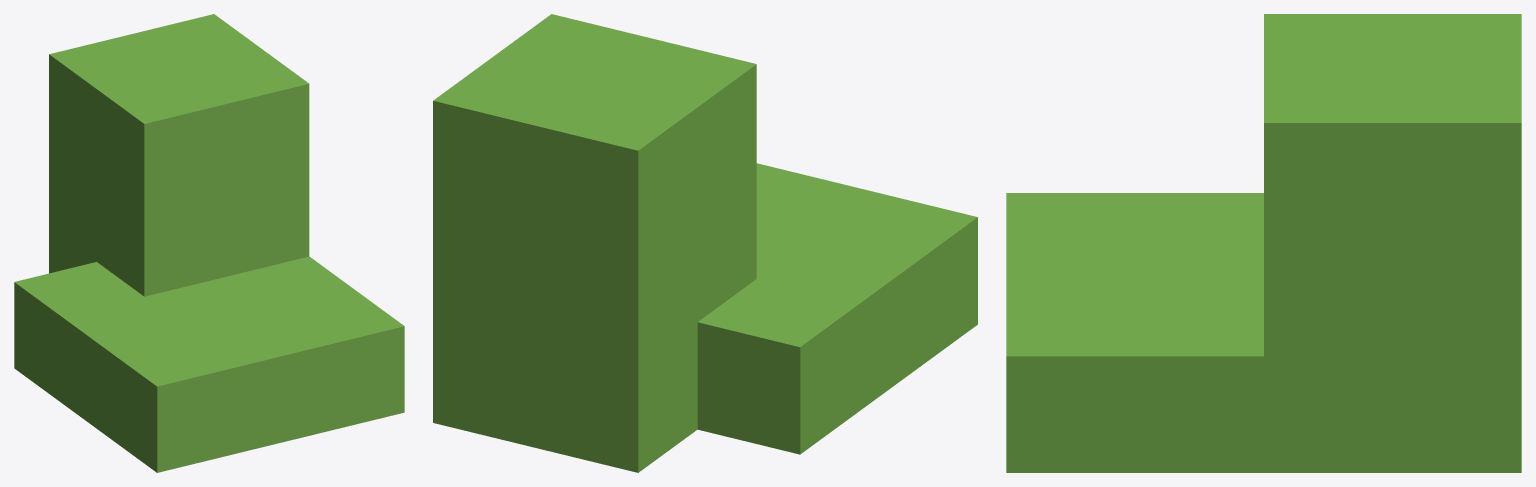
Rendered from frog__leg_fr.glb.
3 renders of one model, left to right at view 1: azimuth 30°, elevation 25°; view 2: azimuth 150°, elevation 25°; view 3: azimuth 270°, elevation 25°, orthographic. The views are drawn at different scales.
Parts seen in each view (by area): view 1: frog__leg_fr; view 2: frog__leg_fr; view 3: frog__leg_fr.
Boxes of the visible parts, x1,y1,x2,y2 form: frog__leg_fr: [14, 14, 404, 472]; frog__leg_fr: [433, 14, 977, 472]; frog__leg_fr: [1006, 14, 1521, 472].
Size of the model in its own units: 0.3 by 0.3 by 0.4.
Materials: 1 (1 with a texture image).
